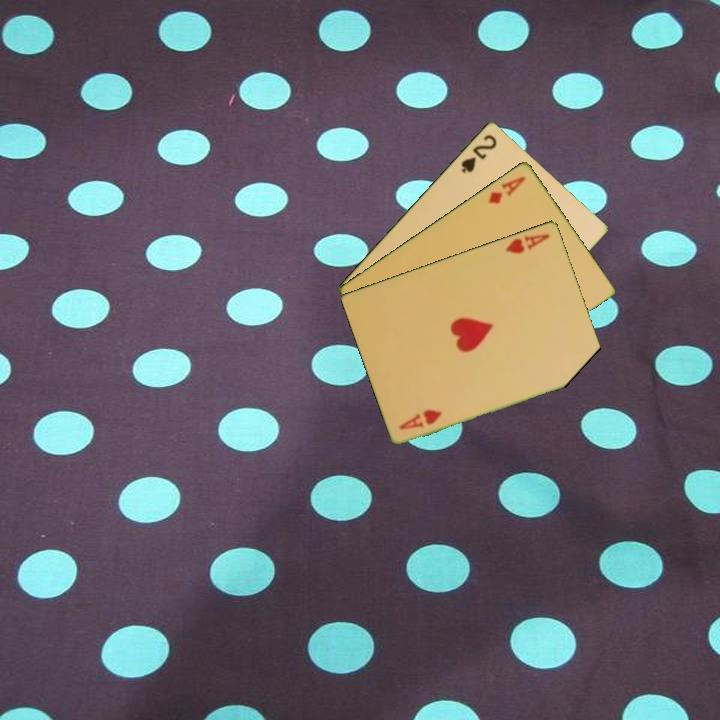2s: (457, 130, 500, 176)
Ad: (484, 172, 529, 206)
Ah: (502, 230, 553, 256), (396, 405, 445, 432)
